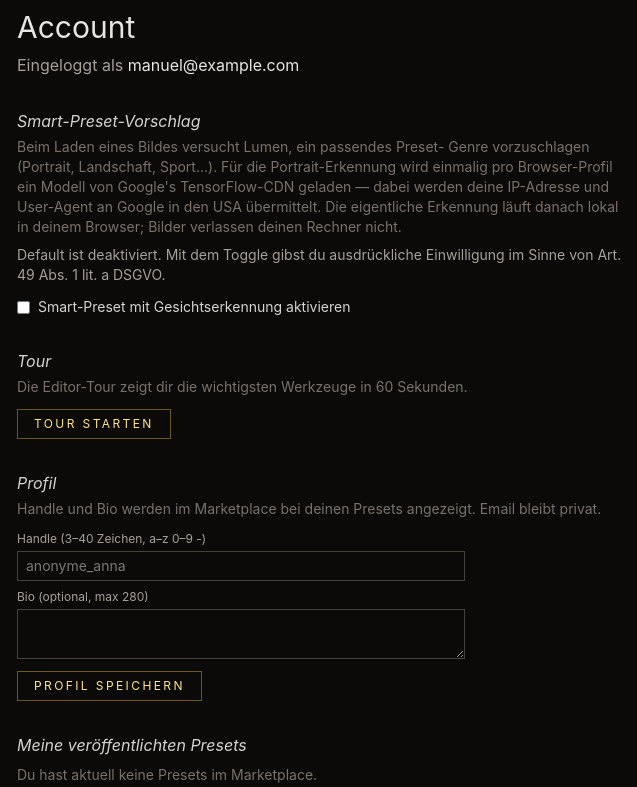
Test: Account › Profil-Save sendet handle/bio (leer -> null)
Step 1. Type "anna" into the field with test id "account-handle" → [241, 566], box [17,551,465,581]
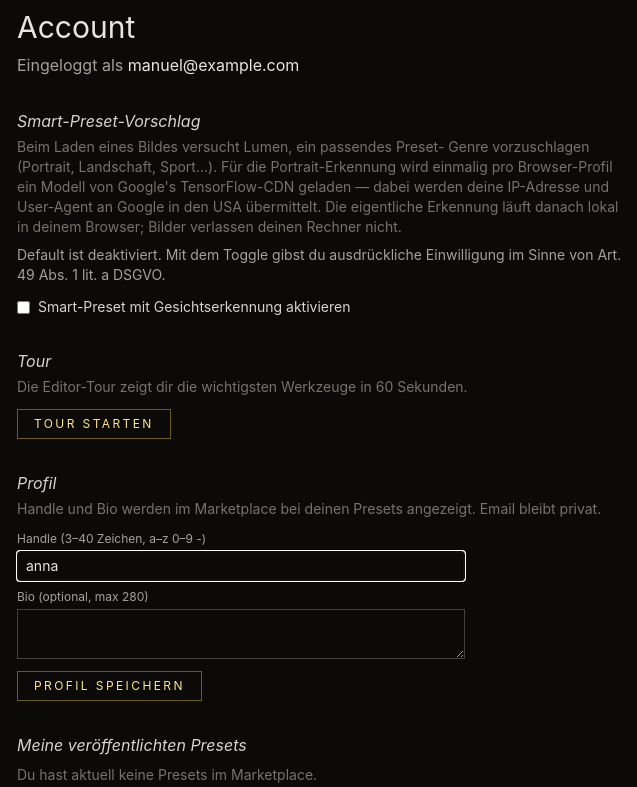
Step 2. Click the button with test id "account-profile-save" → [109, 686], box [17,671,202,701]
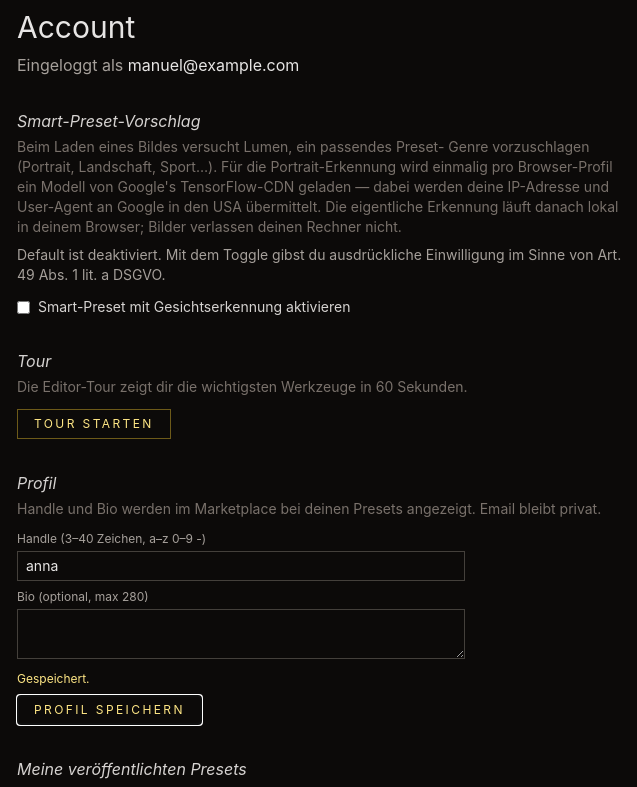
Now the text with test id "account-profile-feedback" reads "Gespeichert.", box [17,671,90,686]
